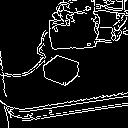cube: (39, 47, 84, 87)
